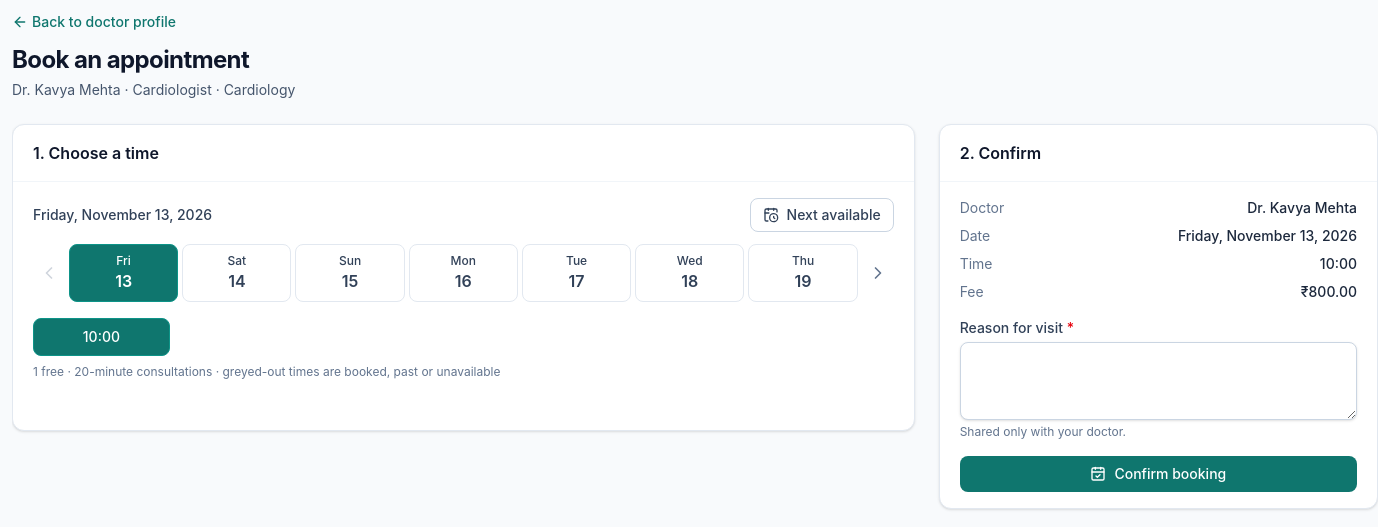
Scenario: BookAppointmentPage › requires a reason before booking
What coordinates should you click on to do the following:
click the button "Confirm booking"
I would click on:
 (1158, 474)
Its box is [960,456,1357,492].
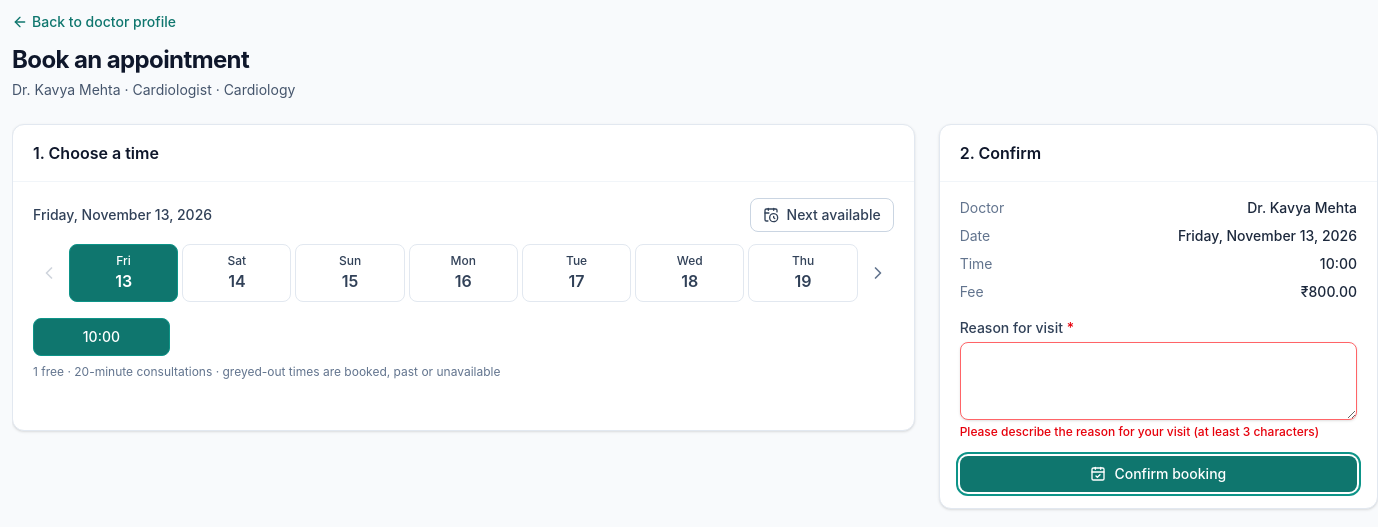
Expected: the text "Please describe the reason for your visit (at least 3 characters)" is shown, [960,424,1357,440]
